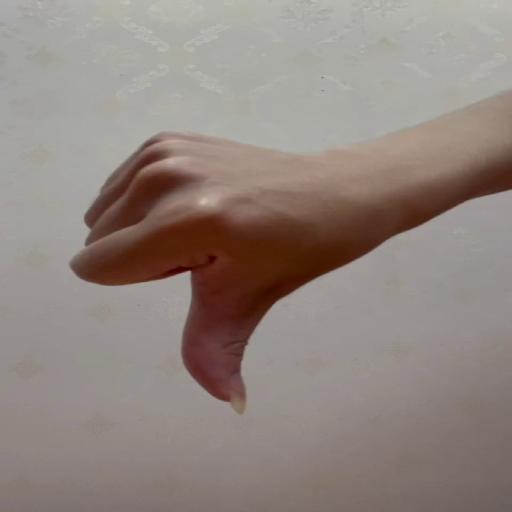thumbs_down: (68, 127, 370, 417)
